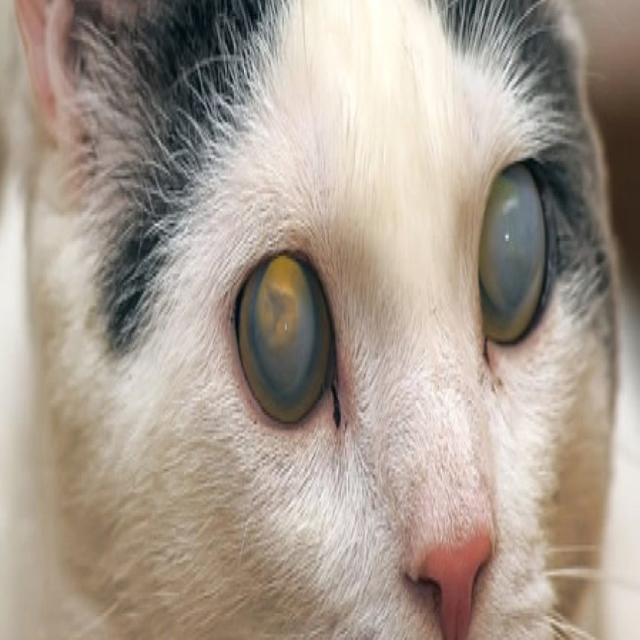cat-eye: (235, 236, 362, 446), (482, 152, 588, 358)
